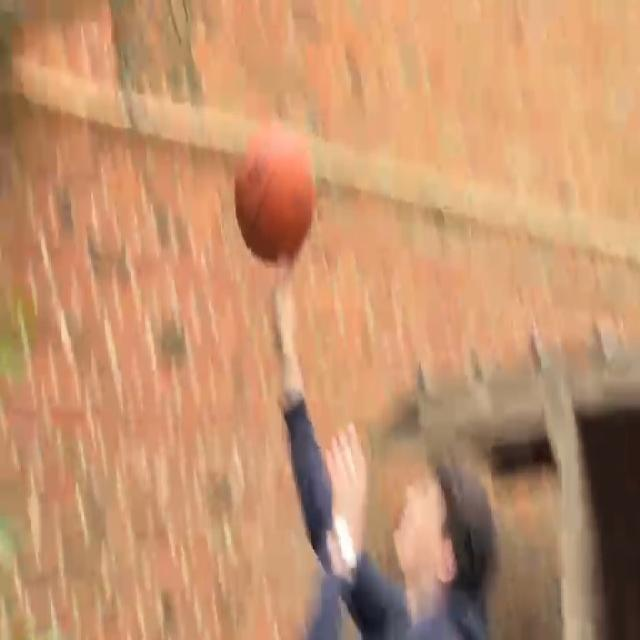Basketball: (234, 124, 316, 262)
